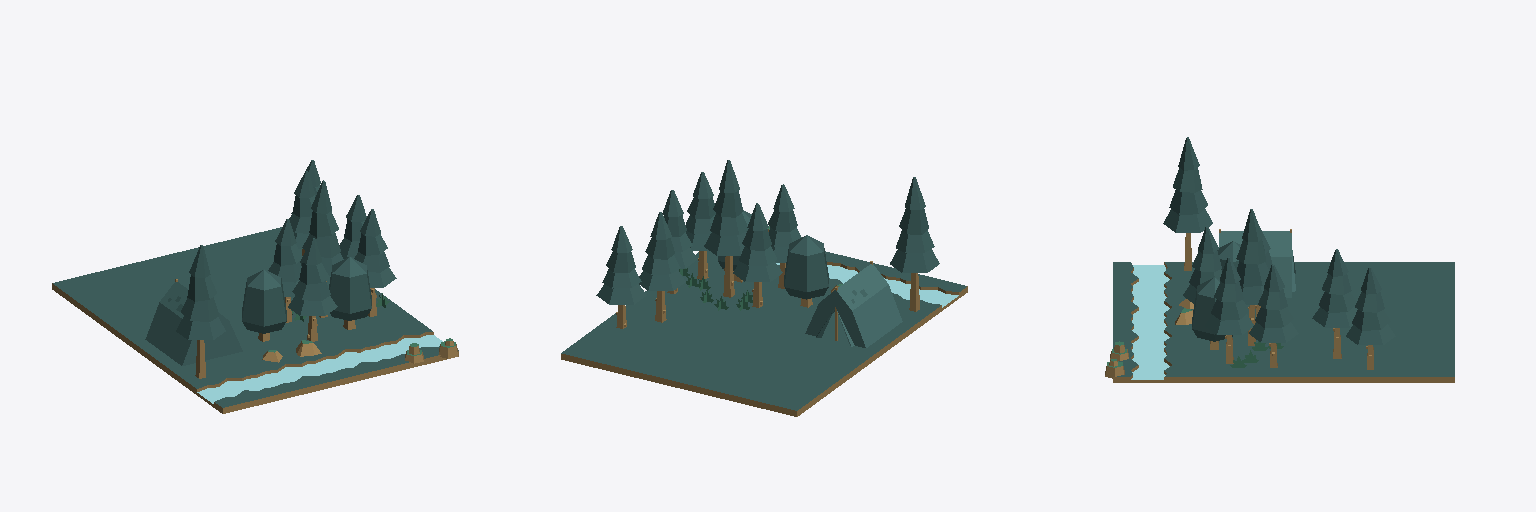
The model's file is sample_level.obj.
The picture shows the model from 3 angles: view 1: azimuth 30°, elevation 25°; view 2: azimuth 150°, elevation 25°; view 3: azimuth 270°, elevation 25°; orthographic projection.
Visible parts, largest first — view 1: Mesh1_Plate_River_Dirt_Model, 2x2_Plate_Grass_DIrt_Mesh1_Plate_Grass_Dirt_Model.008, Mesh1_Plate_Grass_Dirt_Model.004_Mesh1_Plate_Grass_Dirt_Model.00, Mesh1_Group1_Model.008, Mesh1_Group1_Model.040, Mesh1_Large_Oak_Dark_Model, Mesh1_Group1_Model.000_Mesh1_Group1_Model.007, Mesh1_Large_Oak_Dark_Model.001_Mesh1_Large_Oak_Dark_Model.003, Mesh1_Group1_Model.002_Mesh1_Group1_Model.042, Mesh1_Group1_Model.001_Mesh1_Group1_Model.041, Mesh1_Plate_Grass_Dirt_Model.002, Mesh1_Group1_Model.005 (+4 smaller); view 2: Mesh1_Plate_Grass_Dirt_Model.004_Mesh1_Plate_Grass_Dirt_Model.00, 2x2_Plate_Grass_DIrt_Mesh1_Plate_Grass_Dirt_Model.008, Mesh1_Group1_Model.008, Mesh1_Plate_River_Dirt_Model, Mesh1_Group1_Model.040, Mesh1_Group1_Model.001_Mesh1_Group1_Model.041, Mesh1_Large_Oak_Dark_Model, Mesh1_Group1_Model.004_Mesh1_Group1_Model.044, Mesh1_Plate_Grass_Dirt_Model, Mesh1_Plate_Grass_Dirt_Model.002, Mesh1_Group1_Model.005, Mesh1_Group1_Model.006_Mesh1_Group1_Model.045 (+5 smaller); view 3: Mesh1_Plate_River_Dirt_Model, 2x2_Plate_Grass_DIrt_Mesh1_Plate_Grass_Dirt_Model.008, Mesh1_Plate_Grass_Dirt_Model.004_Mesh1_Plate_Grass_Dirt_Model.00, Mesh1_Group1_Model.040, Mesh1_Plate_Grass_Dirt_Model, Mesh1_Group1_Model.002_Mesh1_Group1_Model.042, Mesh1_Group1_Model.003_Mesh1_Group1_Model.043, Mesh1_Group1_Model.004_Mesh1_Group1_Model.044, Mesh1_Group1_Model.006_Mesh1_Group1_Model.045, Mesh1_Group1_Model.001_Mesh1_Group1_Model.041, Mesh1_Plate_Grass_Dirt_Model.001, Mesh1_Plate_Grass_Dirt_Model.002 (+4 smaller).
Boxes of the visible parts, x1,y1,x2,y2 form: Mesh1_Plate_River_Dirt_Model: [189, 325, 458, 413]; 2x2_Plate_Grass_DIrt_Mesh1_Plate_Grass_Dirt_Model.008: [120, 282, 423, 388]; Mesh1_Plate_Grass_Dirt_Model.004_Mesh1_Plate_Grass_Dirt_Model.00: [52, 254, 237, 338]; Mesh1_Group1_Model.008: [145, 279, 242, 365]; Mesh1_Group1_Model.040: [176, 245, 225, 378]; Mesh1_Large_Oak_Dark_Model: [242, 269, 286, 341]; Mesh1_Group1_Model.000_Mesh1_Group1_Model.007: [288, 238, 337, 341]; Mesh1_Large_Oak_Dark_Model.001_Mesh1_Large_Oak_Dark_Model.003: [329, 257, 371, 329]; Mesh1_Group1_Model.002_Mesh1_Group1_Model.042: [354, 209, 396, 316]; Mesh1_Group1_Model.001_Mesh1_Group1_Model.041: [300, 180, 343, 317]; Mesh1_Plate_Grass_Dirt_Model.002: [171, 240, 262, 277]; Mesh1_Group1_Model.005: [268, 219, 302, 322]; Mesh1_Plate_Grass_Dirt_Model.004_Mesh1_Plate_Grass_Dirt_Model.00: [679, 332, 865, 416]; 2x2_Plate_Grass_DIrt_Mesh1_Plate_Grass_Dirt_Model.008: [635, 253, 933, 366]; Mesh1_Group1_Model.008: [805, 261, 902, 347]; Mesh1_Plate_River_Dirt_Model: [698, 251, 967, 316]; Mesh1_Group1_Model.040: [890, 177, 939, 311]; Mesh1_Group1_Model.001_Mesh1_Group1_Model.041: [704, 160, 748, 297]; Mesh1_Large_Oak_Dark_Model: [784, 235, 828, 307]; Mesh1_Group1_Model.004_Mesh1_Group1_Model.044: [639, 212, 685, 322]; Mesh1_Plate_Grass_Dirt_Model: [561, 328, 652, 373]; Mesh1_Plate_Grass_Dirt_Model.002: [620, 343, 712, 387]; Mesh1_Group1_Model.005: [733, 203, 782, 307]; Mesh1_Group1_Model.006_Mesh1_Group1_Model.045: [596, 226, 646, 328]; Mesh1_Plate_River_Dirt_Model: [1113, 262, 1181, 382]; 2x2_Plate_Grass_DIrt_Mesh1_Plate_Grass_Dirt_Model.008: [1182, 262, 1317, 382]; Mesh1_Plate_Grass_Dirt_Model.004_Mesh1_Plate_Grass_Dirt_Model.00: [1318, 262, 1454, 318]; Mesh1_Group1_Model.040: [1163, 137, 1212, 270]; Mesh1_Plate_Grass_Dirt_Model: [1386, 348, 1454, 382]; Mesh1_Group1_Model.002_Mesh1_Group1_Model.042: [1205, 257, 1253, 363]; Mesh1_Group1_Model.003_Mesh1_Group1_Model.043: [1249, 265, 1298, 367]; Mesh1_Group1_Model.004_Mesh1_Group1_Model.044: [1312, 249, 1356, 358]; Mesh1_Group1_Model.006_Mesh1_Group1_Model.045: [1346, 267, 1395, 369]; Mesh1_Group1_Model.001_Mesh1_Group1_Model.041: [1236, 209, 1268, 345]; Mesh1_Plate_Grass_Dirt_Model.001: [1318, 348, 1385, 382]; Mesh1_Plate_Grass_Dirt_Model.002: [1386, 319, 1454, 347].
Bounding box in the file's own units: 12.17 × 7.02 × 15.36.